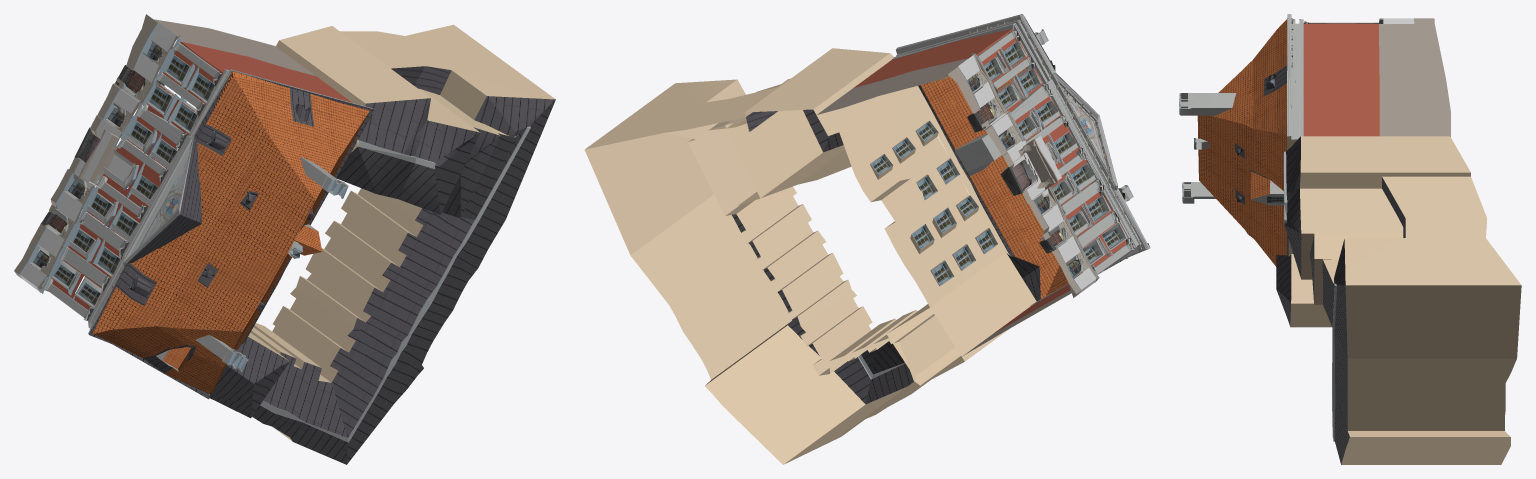
Rendered from Pikk_28-origo.obj.
The picture shows the model from 3 angles, left to right: view 1: azimuth 30°, elevation 25°; view 2: azimuth 150°, elevation 25°; view 3: azimuth 270°, elevation 25°; orthographic projection. The views are drawn at different scales.
Visible parts, largest first — view 1: Pikk_28; view 2: Pikk_28; view 3: Pikk_28.
Boxes of the visible parts, left/top/right/bottom form: Pikk_28: left=14, top=14, right=555, bottom=464; Pikk_28: left=584, top=14, right=1150, bottom=464; Pikk_28: left=1179, top=14, right=1521, bottom=464.
Size of the model in its own units: 50.44 by 43.5 by 34.64.
